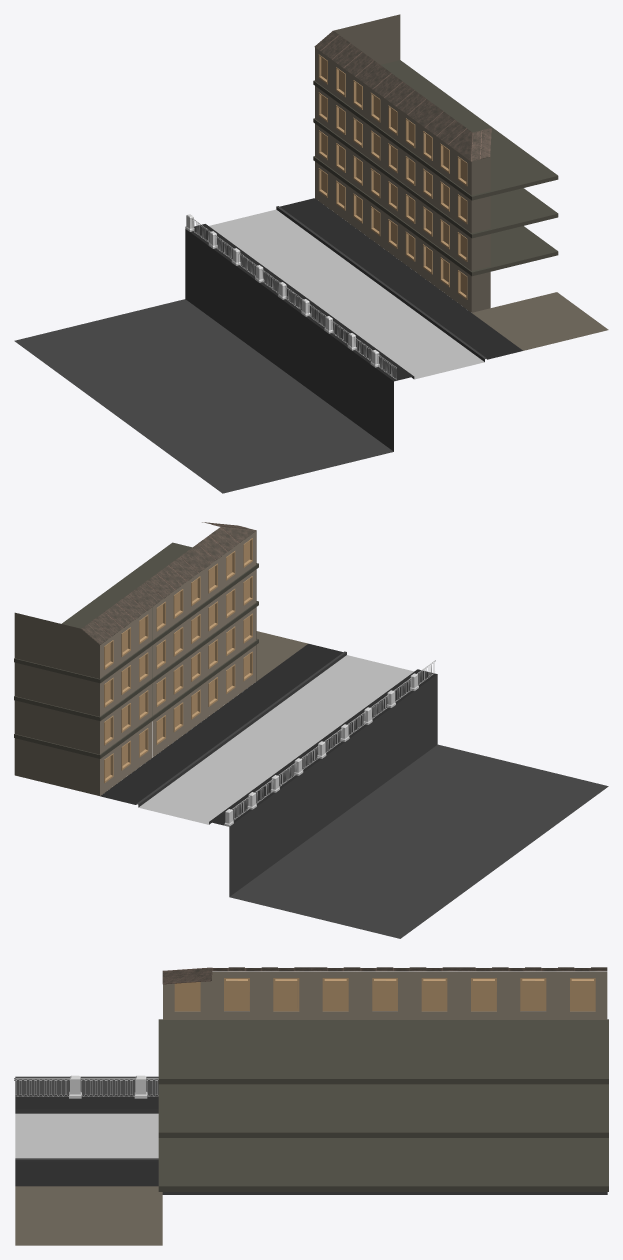
Rendered from улица2.fbx.
3 renders of one model, top to bottom at view 1: azimuth 30°, elevation 25°; view 2: azimuth 150°, elevation 25°; view 3: azimuth 270°, elevation 25°, orthographic. The views are drawn at different scales.
Visible parts, largest first — view 1: Plane.002, Cube.045, Cube.047, Cube.046, Cube.074, Cube.029, Cube.035, Cube.040, Cube.030, Cube.044, Cube.025, Cube.043 (+11 smaller); view 2: Plane.002, Cube.029, Cube.047, Cube.035, Cube.040, Cube.030, Cube.025, Cube.038, Cube.043, Cube.036, Cube.041, Cube.037 (+11 smaller); view 3: Cube.047, Cube.046, Cube.074, Plane.002, Cube.045, Cube.033, Cube.038, Cube.043, Cube.044, Cube.025, Cube.039, Cube.034 (+1 smaller).
Boxes of the visible parts, x1,y1,x2,y2 form: Plane.002: (14, 198, 522, 493); Cube.045: (471, 157, 608, 350); Cube.047: (313, 60, 558, 200); Cube.046: (313, 156, 558, 276); Cube.074: (313, 118, 558, 238); Cube.029: (334, 14, 400, 64); Cube.035: (367, 200, 419, 274); Cube.040: (419, 238, 471, 312); Cube.030: (315, 161, 366, 235); Cube.044: (419, 107, 491, 161); Cube.025: (192, 218, 396, 380); Cube.043: (419, 124, 471, 195); Plane.002: (100, 643, 608, 938); Cube.029: (14, 612, 99, 795); Cube.047: (14, 542, 258, 683); Cube.035: (152, 683, 204, 757); Cube.040: (204, 645, 256, 719); Cube.030: (100, 721, 151, 795); Cube.025: (231, 660, 435, 820); Cube.038: (152, 569, 204, 640); Cube.043: (204, 531, 256, 602); Cube.036: (152, 645, 204, 715); Cube.041: (204, 607, 256, 677); Cube.037: (152, 608, 204, 677); Cube.047: (158, 1019, 608, 1084); Cube.046: (158, 1138, 608, 1191); Cube.074: (158, 1084, 608, 1137); Plane.002: (15, 1076, 607, 1194); Cube.045: (15, 1186, 162, 1245); Cube.033: (459, 971, 607, 1019); Cube.038: (311, 971, 459, 1019); Cube.043: (163, 971, 310, 1019); Cube.044: (162, 967, 310, 984); Cube.025: (15, 1078, 158, 1096); Cube.039: (311, 967, 459, 971); Cube.034: (459, 967, 607, 971).
Bounding box in the file's own units: 4273 × 2460 × 4018.
